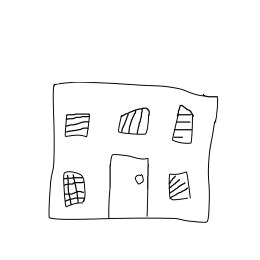closed_window: (114, 104, 154, 141), (160, 167, 198, 205), (59, 166, 89, 209), (60, 108, 96, 141), (169, 102, 195, 146)
door: (105, 146, 156, 221)
single_line_roof: (40, 75, 238, 104)
wall: (46, 105, 225, 224)
